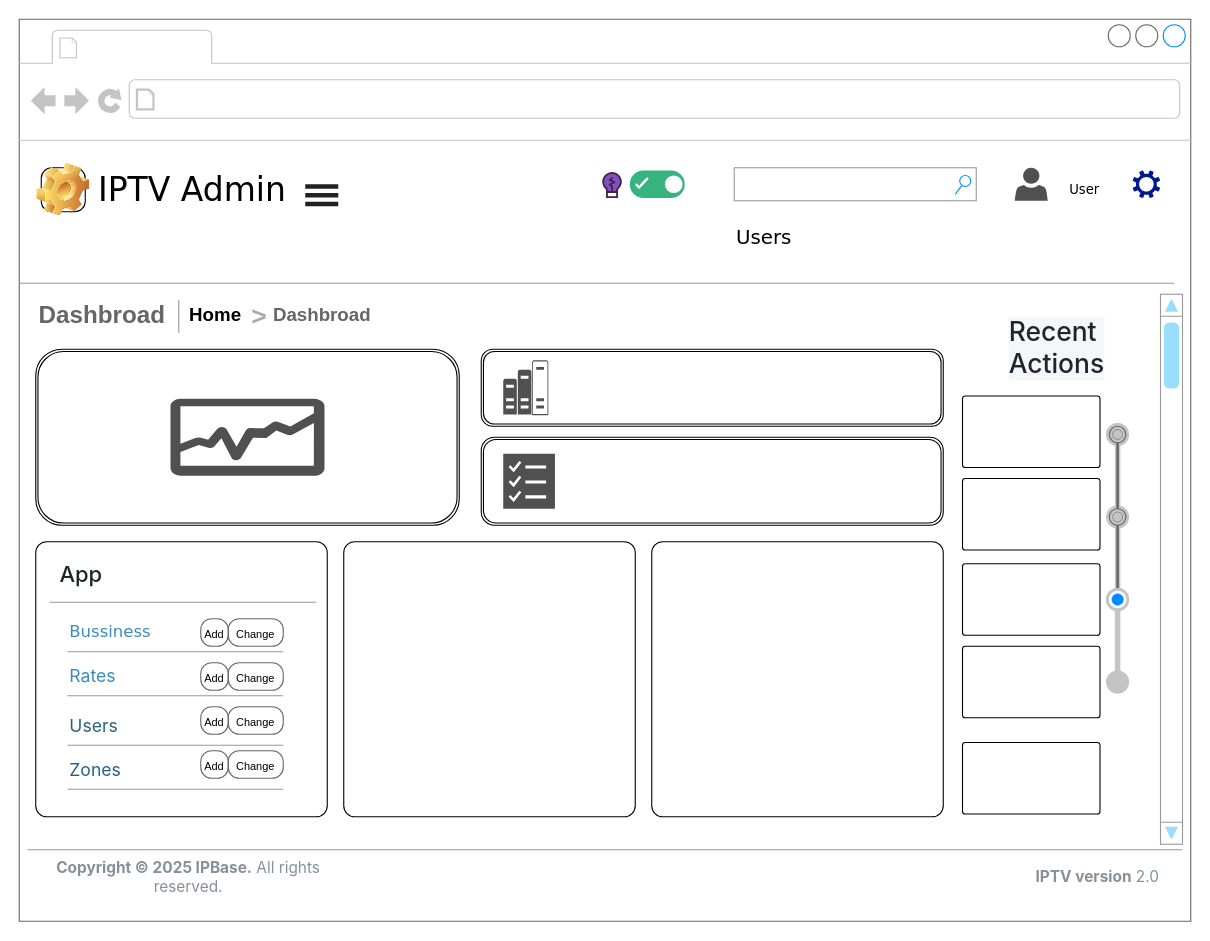
Some shapes in this 1210 by 941 pixel diagram are drawn without their labels. Each missing label, with the box of its shape:
Ac 1 Ac 2 Ac 3 Ac 4: (1099, 392, 1155, 723)
Icon: (40, 167, 85, 212)
Search: (733, 167, 976, 201)
Site admin: (84, 31, 206, 61)
Site administration | Admin: (161, 84, 437, 114)
